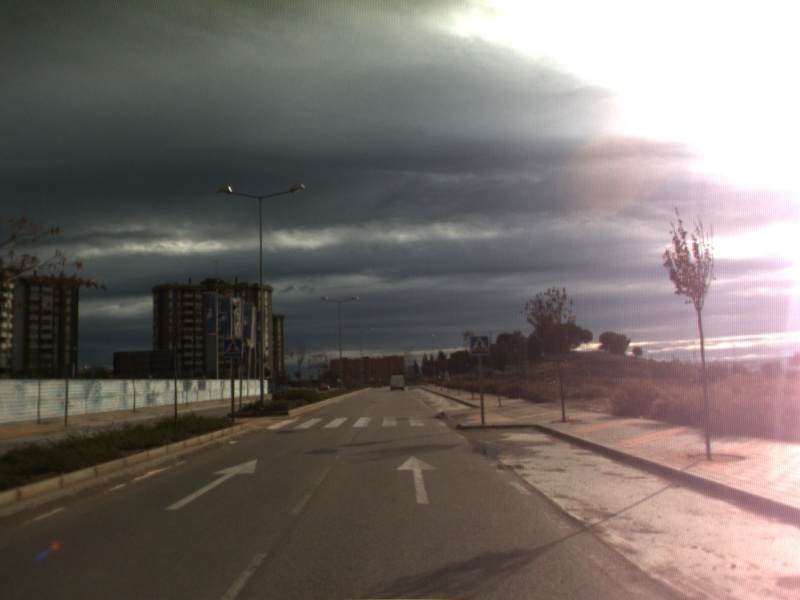STRAIGHT: (163, 457, 260, 512), (394, 453, 440, 505)
